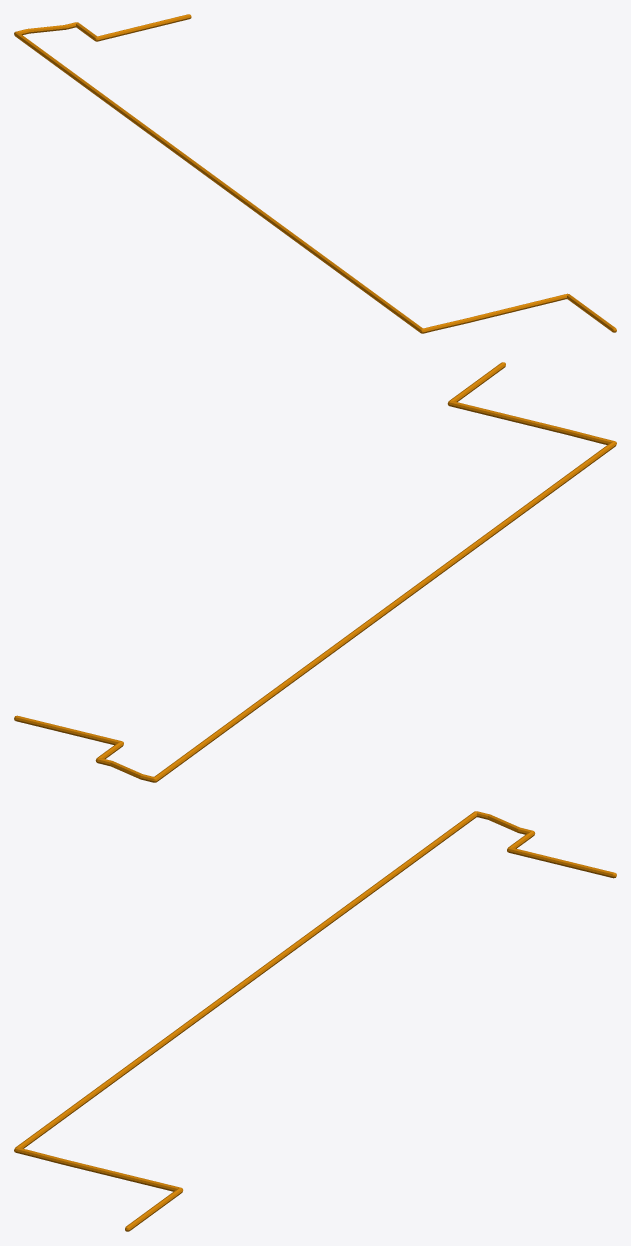
3 views of the same model, one above another, from view 1: azimuth 30°, elevation 25°; view 2: azimuth 150°, elevation 25°; view 3: azimuth 330°, elevation 25° (orthographic). The views are drawn at different scales.
Size of the model in its own units: 658 by 20 by 3423.
